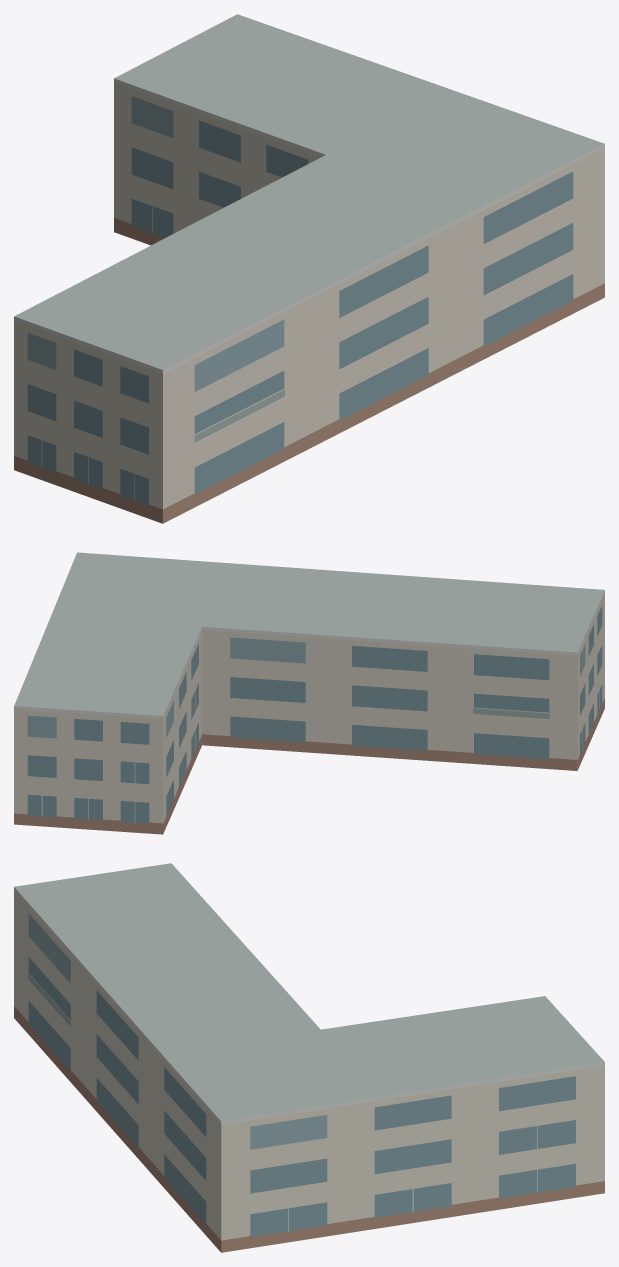
File: survey-upis-32738490.glb
3 views of the same model, one above another, from view 1: azimuth 30°, elevation 25°; view 2: azimuth 150°, elevation 25°; view 3: azimuth 270°, elevation 25° (orthographic). The views are drawn at different scales.
Visible parts, largest first — view 1: survey-upis-32738490.tmp; view 2: survey-upis-32738490.tmp; view 3: survey-upis-32738490.tmp.
Boxes of the visible parts, <box> form: survey-upis-32738490.tmp: <box>14,14,604,523</box>; survey-upis-32738490.tmp: <box>14,552,604,834</box>; survey-upis-32738490.tmp: <box>14,863,604,1252</box>.
Size of the model in its own units: 38.63 by 9.15 by 37.34.
